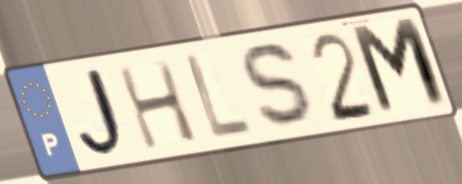2: (309, 30, 379, 125)
H: (113, 57, 202, 153)
J: (76, 63, 135, 163)
L: (182, 50, 256, 141)
M: (345, 14, 455, 121)
S: (239, 40, 323, 133)
